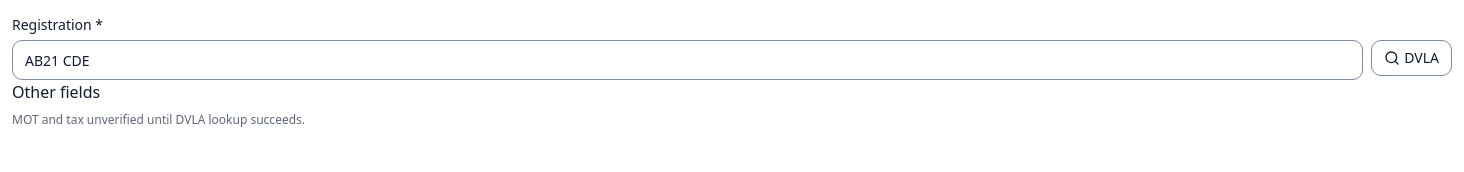
Test case: DVLA lookup on the job form › ignores a response after the registration changes in flight
Click the button "DVLA".
click(1412, 58)  # box [1371,40,1452,76]
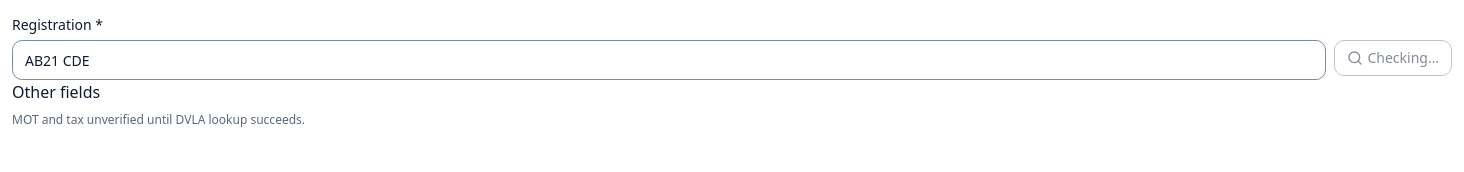
Replace the text in the field labelled "Registration *" with "ZZ99ZZZ" at (669, 60), box [12,40,1326,80]
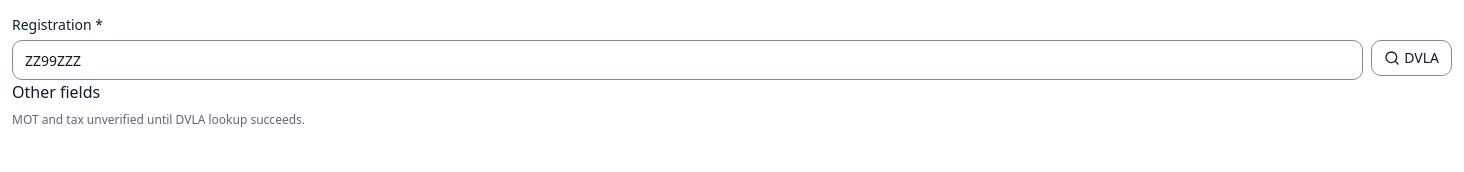
Expected: the button "DVLA" is shown, [1371,40,1452,76]
